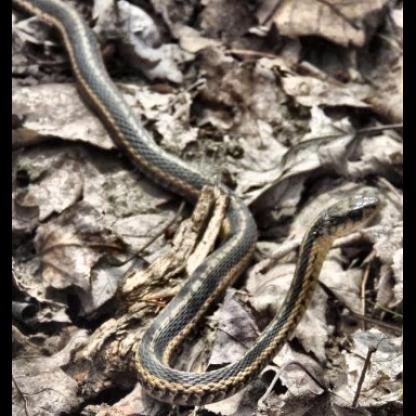Snake: (130, 249, 291, 411), (284, 188, 386, 318)
